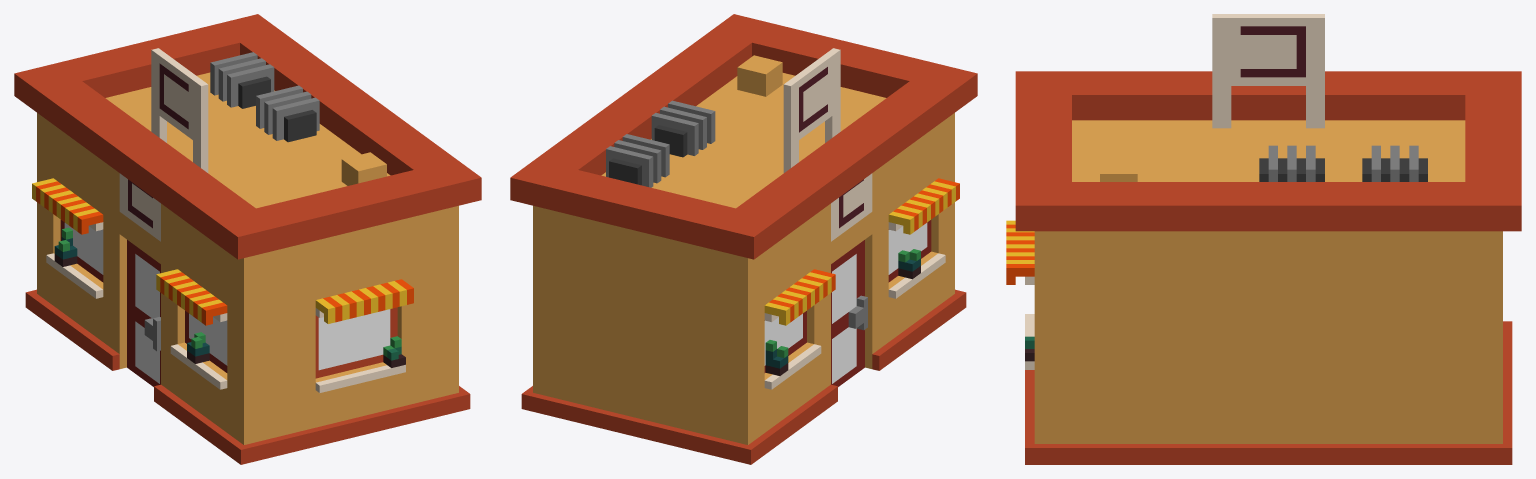
The model's file is Market.obj.
3 renders of one model, left to right at view 1: azimuth 30°, elevation 25°; view 2: azimuth 150°, elevation 25°; view 3: azimuth 270°, elevation 25°, orthographic. The views are drawn at different scales.
Size of the model in its own units: 3.5 by 4.1 by 5.5.
Materials: 1 (1 with a texture image).
